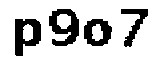7: (117, 7, 152, 52)
9: (46, 7, 80, 50)
o: (81, 17, 113, 50)
p: (12, 17, 43, 57)
